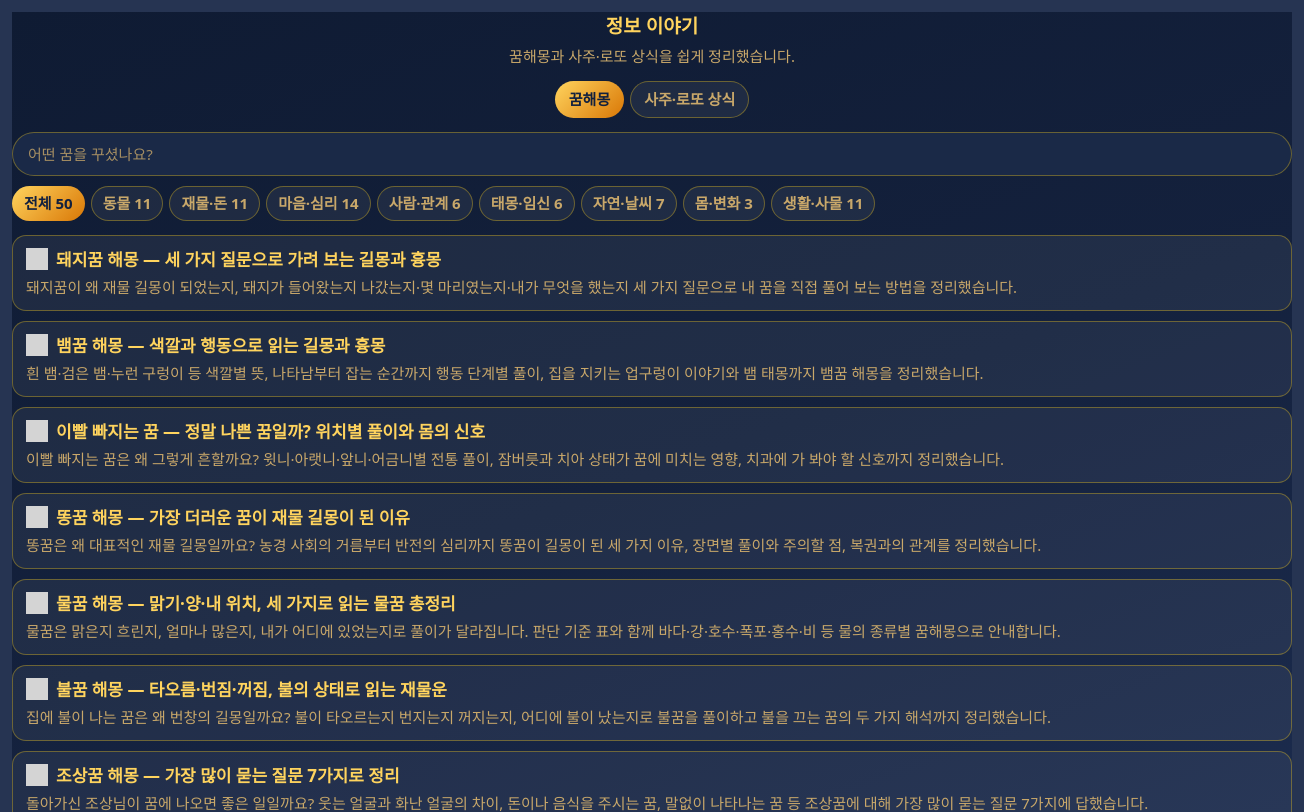
검색창은 항상 보이고 입력하면 목록이 좁혀진다
The image size is (1304, 812).
Type "물고기" into the search field named "글 검색". click: [652, 154]
box: [12,132,1292,176]
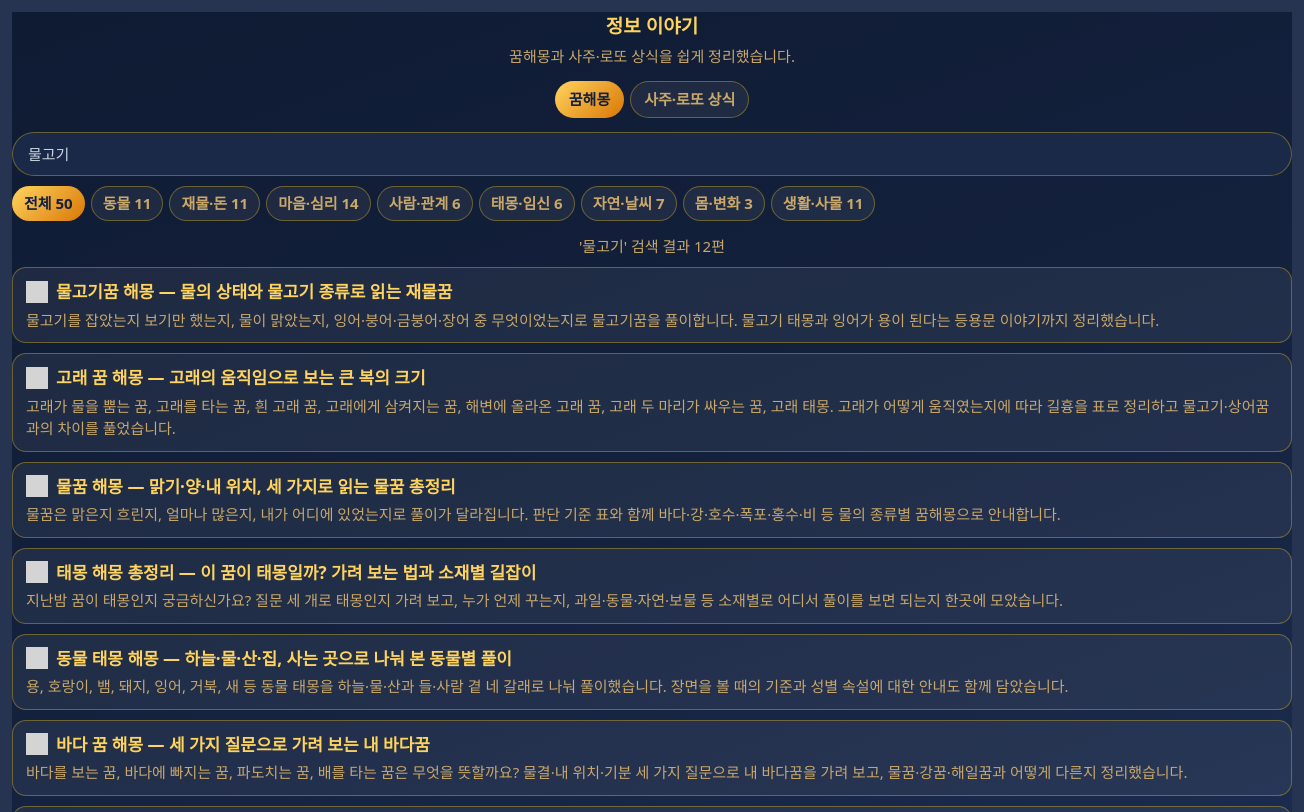
Now the text "'물고기' 검색 결과 12편" is shown, box [579,236,725,256]
